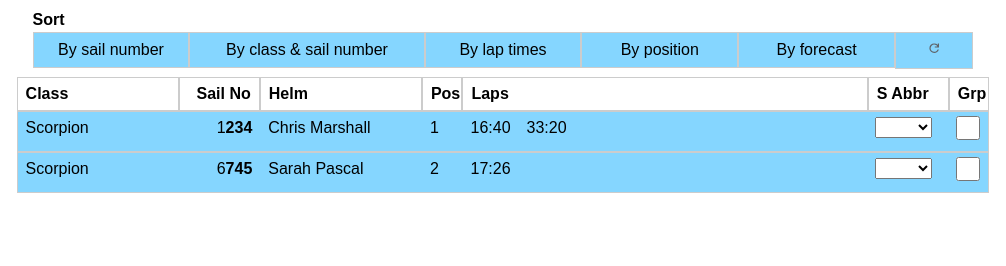
Test: when adding a lap time › displays a message if there is a problem adding the lap time
Click the element showing "1234": [221, 127] box [217,119,252,136]
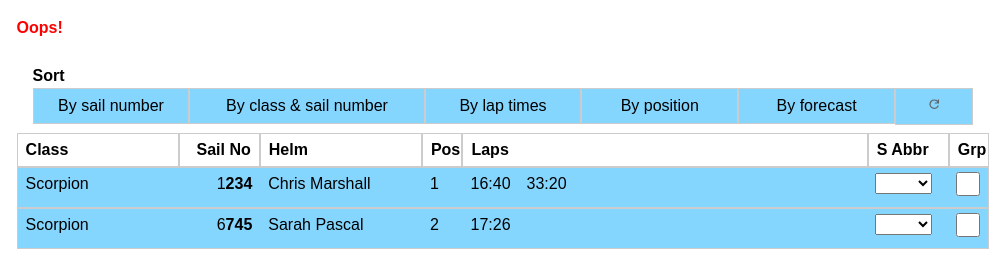
Expected: the text "Oops!" is shown, [17,19,63,36]
